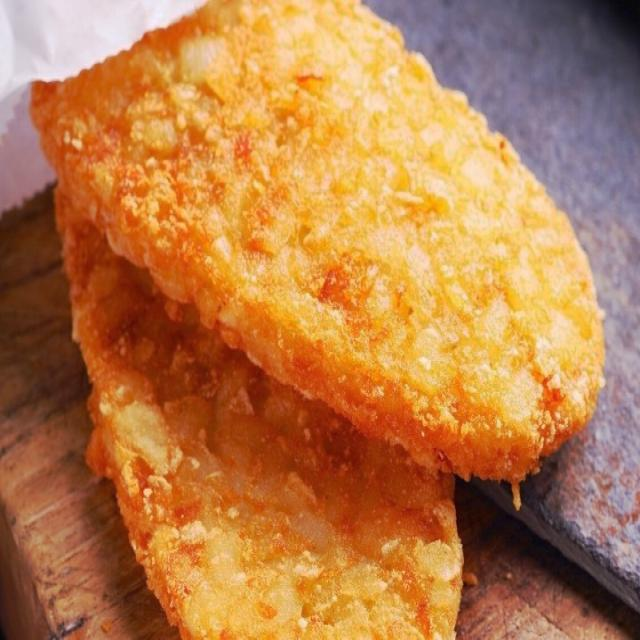Hashbrown: (34, 3, 608, 640), (37, 0, 615, 477), (51, 183, 463, 640)
